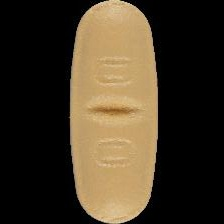54868-5977: (0, 0, 224, 224)
